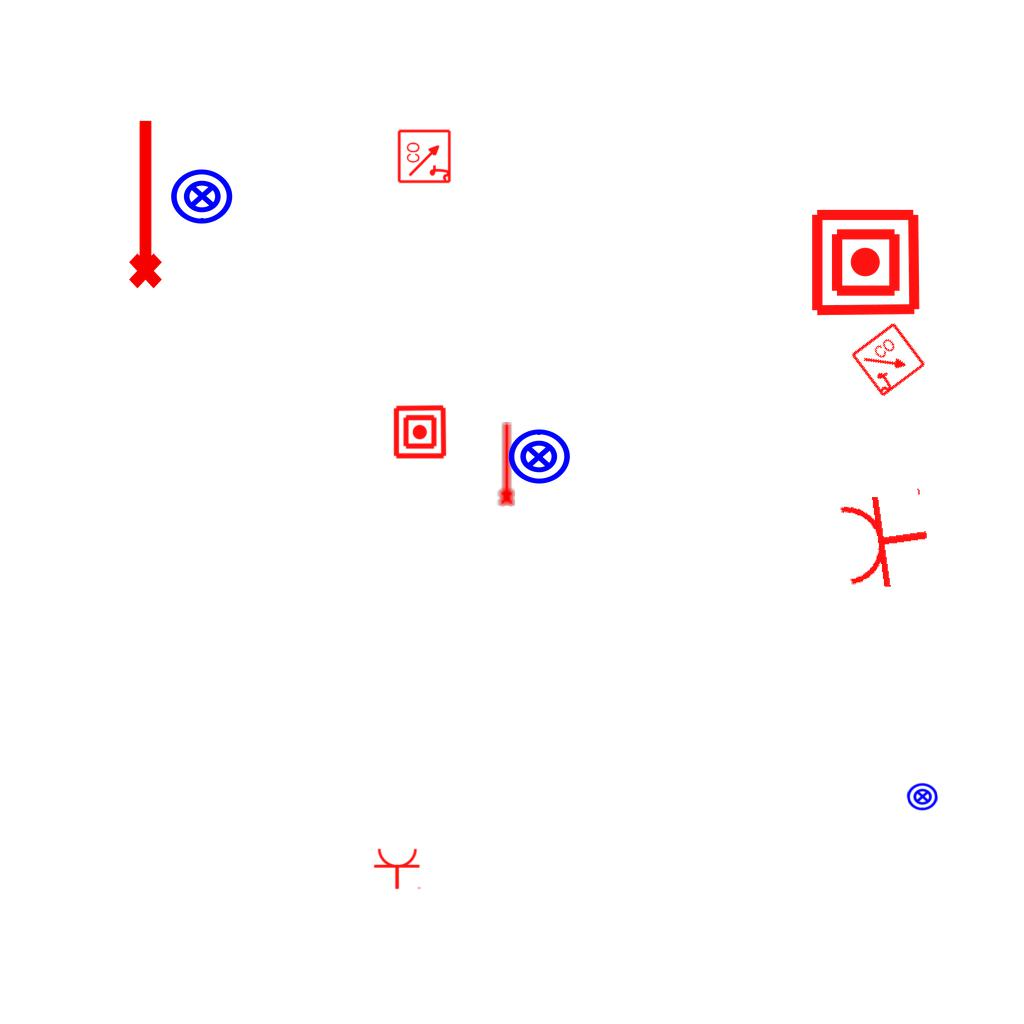ASR_Ansaugoeffnung: (120, 115, 166, 291), (494, 420, 517, 508)
NAM-Nichtautomatischer_Melder: (809, 206, 922, 319), (392, 404, 448, 460)
ROA_Rauchmelder_optisch_mit_Signalgeber_(Sockelsirene): (849, 320, 929, 400), (397, 128, 453, 184)
Schukosteckdose_einfach: (835, 483, 936, 595), (373, 847, 423, 890)
Taster_beleuchtet: (169, 163, 235, 229), (506, 424, 572, 490), (905, 779, 940, 814)
